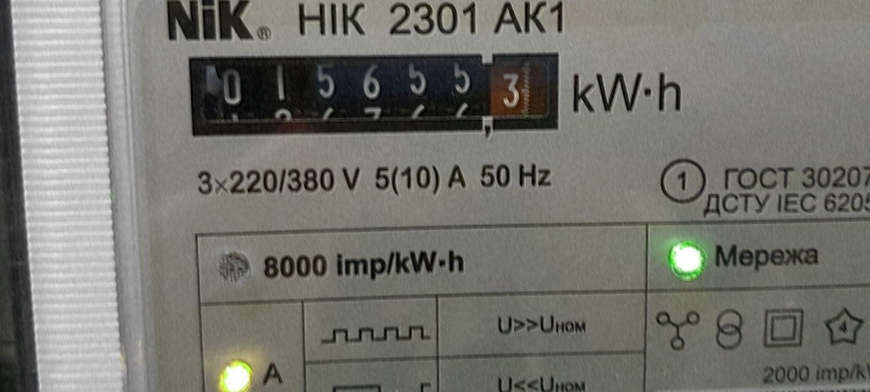0: (219, 65, 245, 106)
1: (271, 63, 290, 102)
3: (501, 72, 521, 108)
5: (313, 63, 338, 99), (406, 63, 430, 95), (453, 62, 472, 95)
6: (360, 63, 384, 99)
screen: (175, 33, 575, 153)
